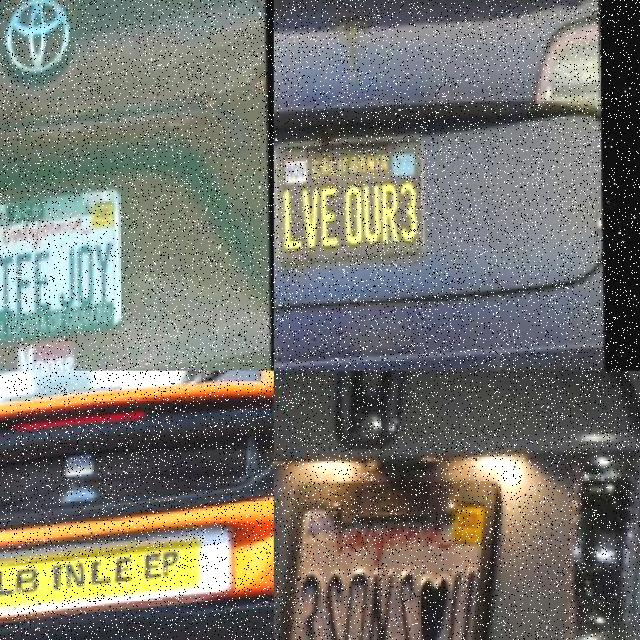licenseplate: (273, 464, 512, 640), (274, 123, 437, 271), (0, 528, 240, 619), (0, 183, 135, 344)
